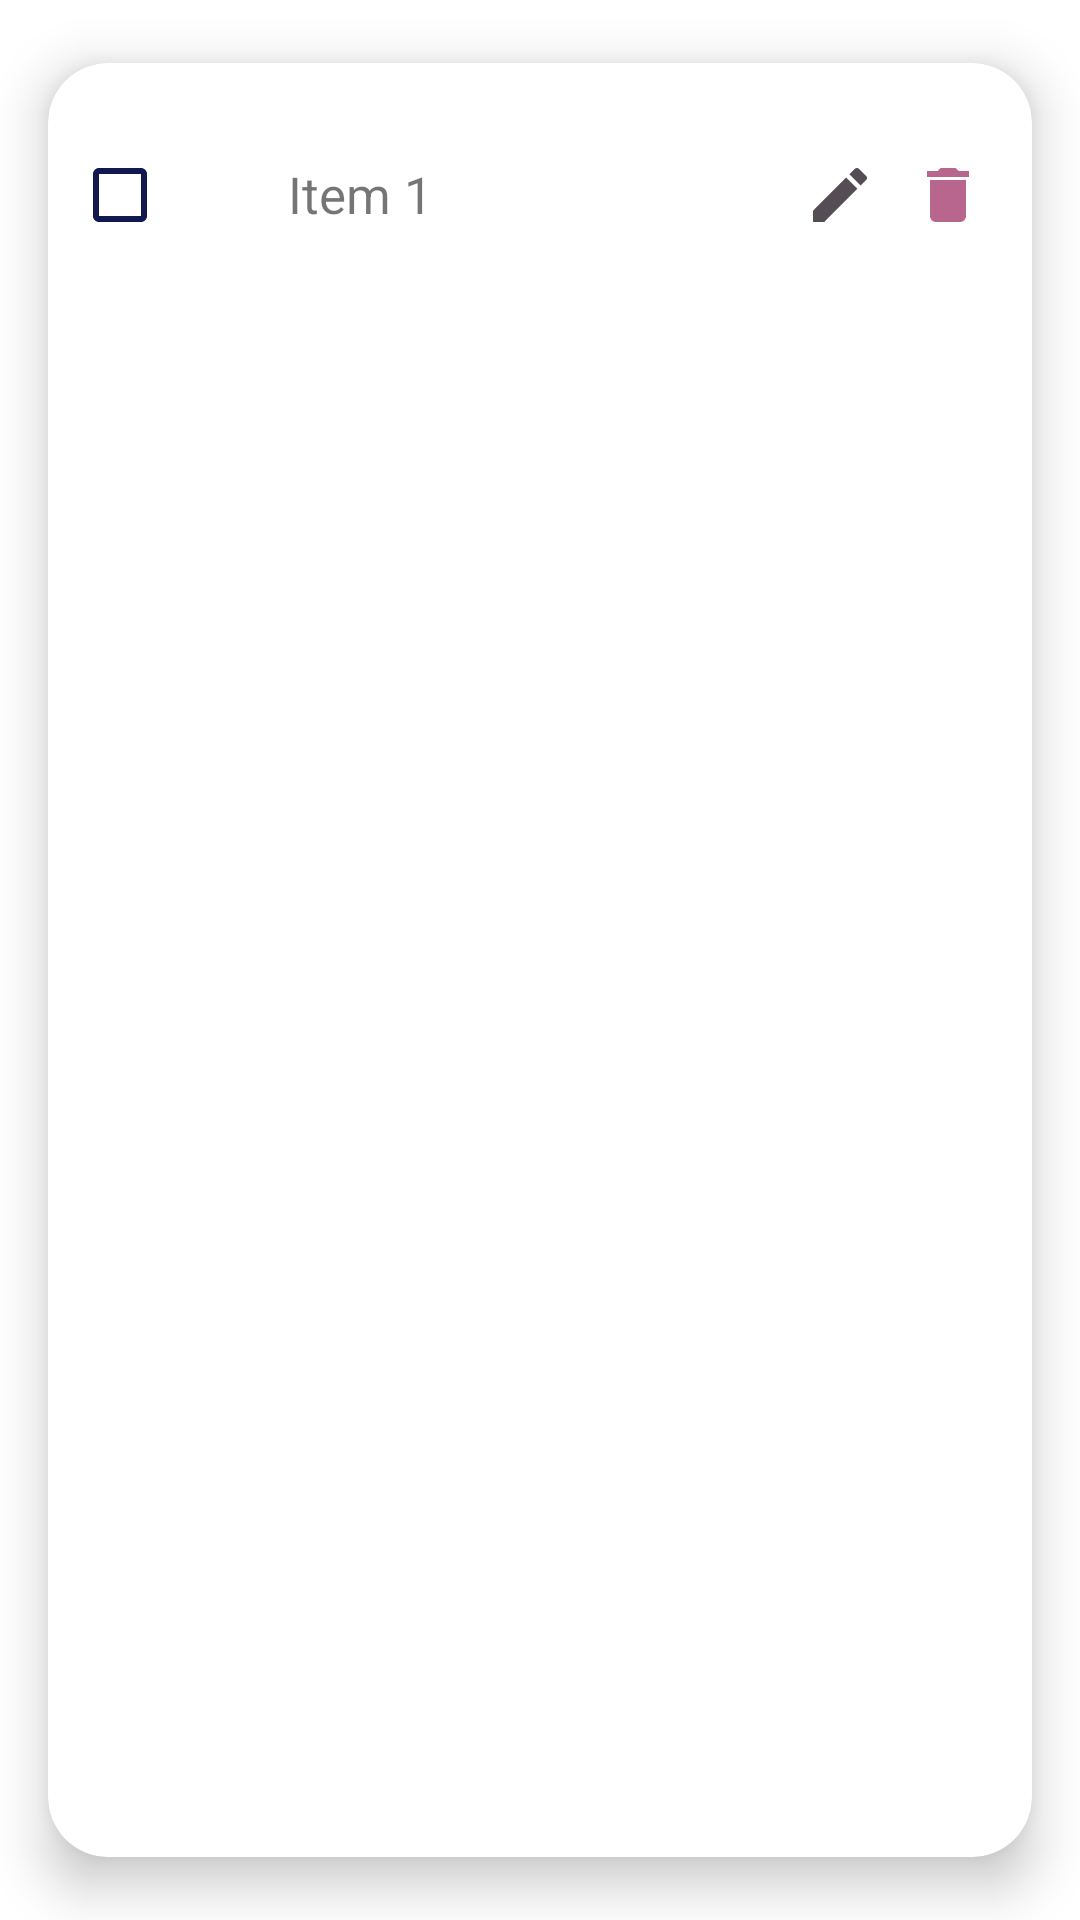

Icon click points for this 1080px x 1920px phone screenshot, format (x=x, y=y):
delete: (x=948, y=195)
edit: (x=840, y=195)
